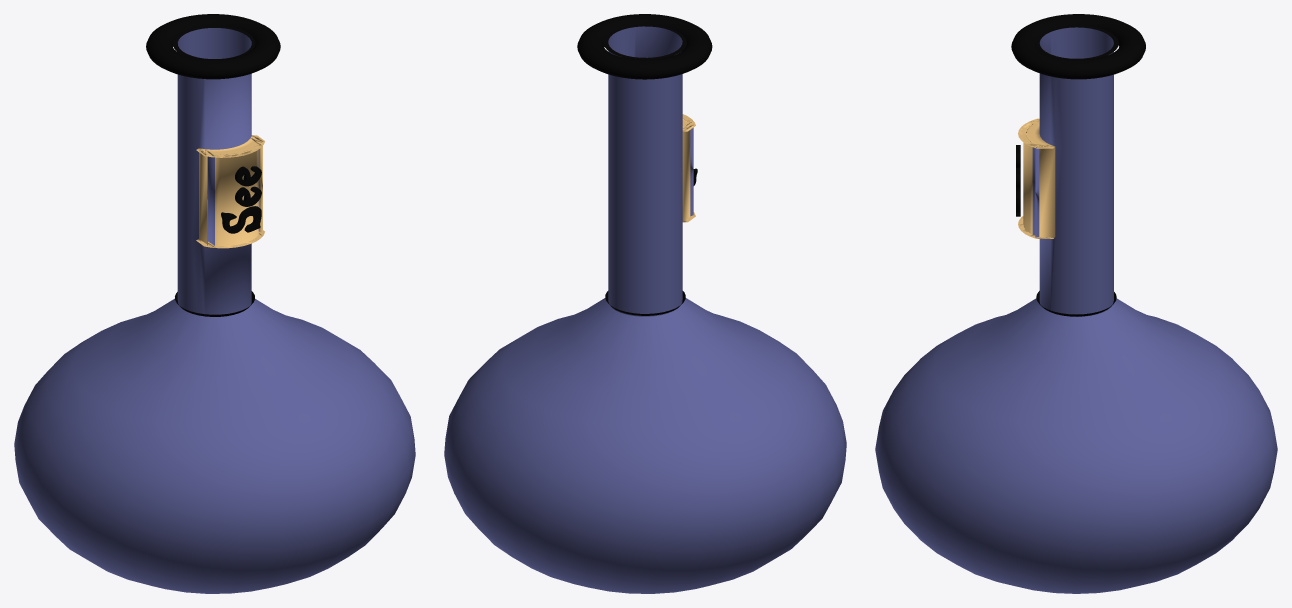
The model's file is potions_f.fbx.
3 views of the same model, side by side, from view 1: azimuth 30°, elevation 25°; view 2: azimuth 150°, elevation 25°; view 3: azimuth 270°, elevation 25° (orthographic).
Parts seen in each view (by area): view 1: Vision Potion; view 2: Vision Potion; view 3: Vision Potion.
Part boxes in pixels (box(x1,y1,x2,y2)): Vision Potion: box(14, 14, 415, 593); Vision Potion: box(444, 14, 846, 593); Vision Potion: box(875, 14, 1277, 593).
Bounding box in the file's own units: 515 × 744 × 515.
